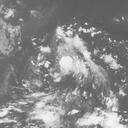cyclone: (57, 51, 88, 79)
